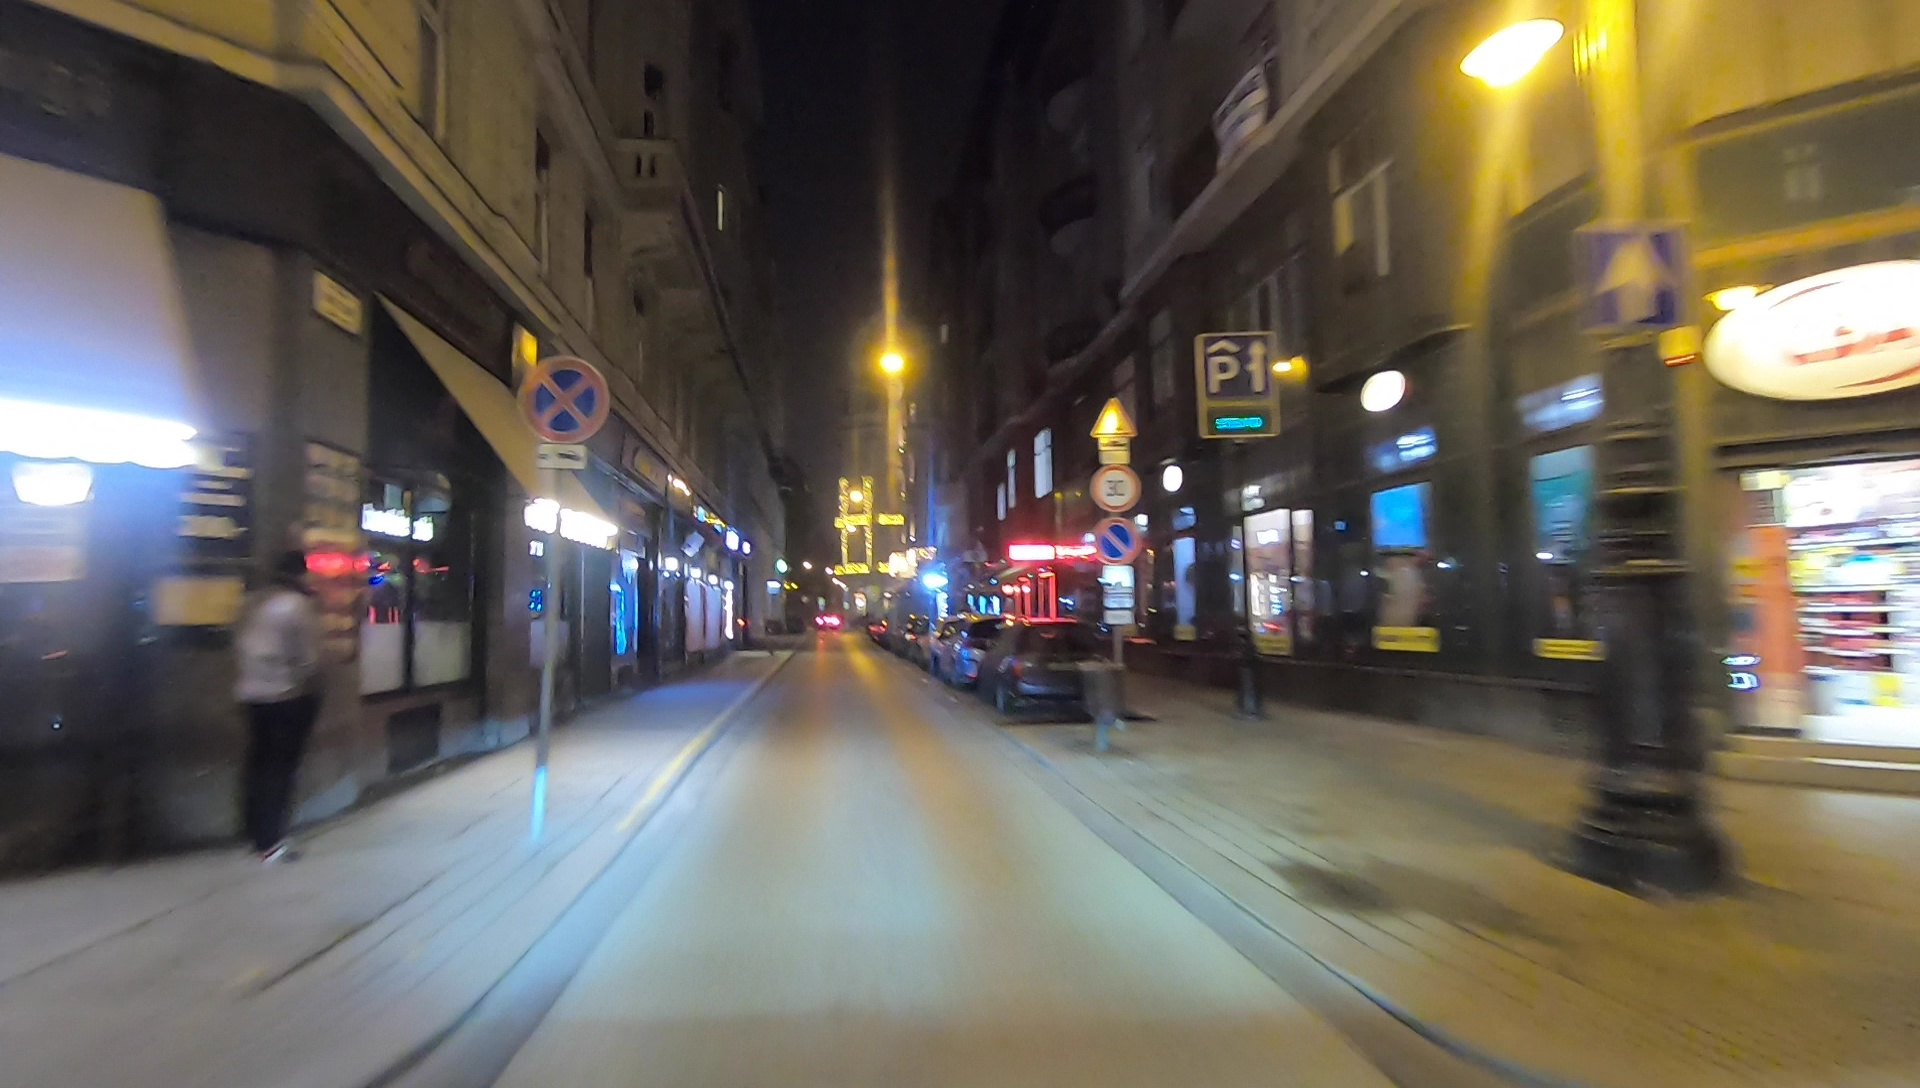person: (232, 558, 314, 865)
